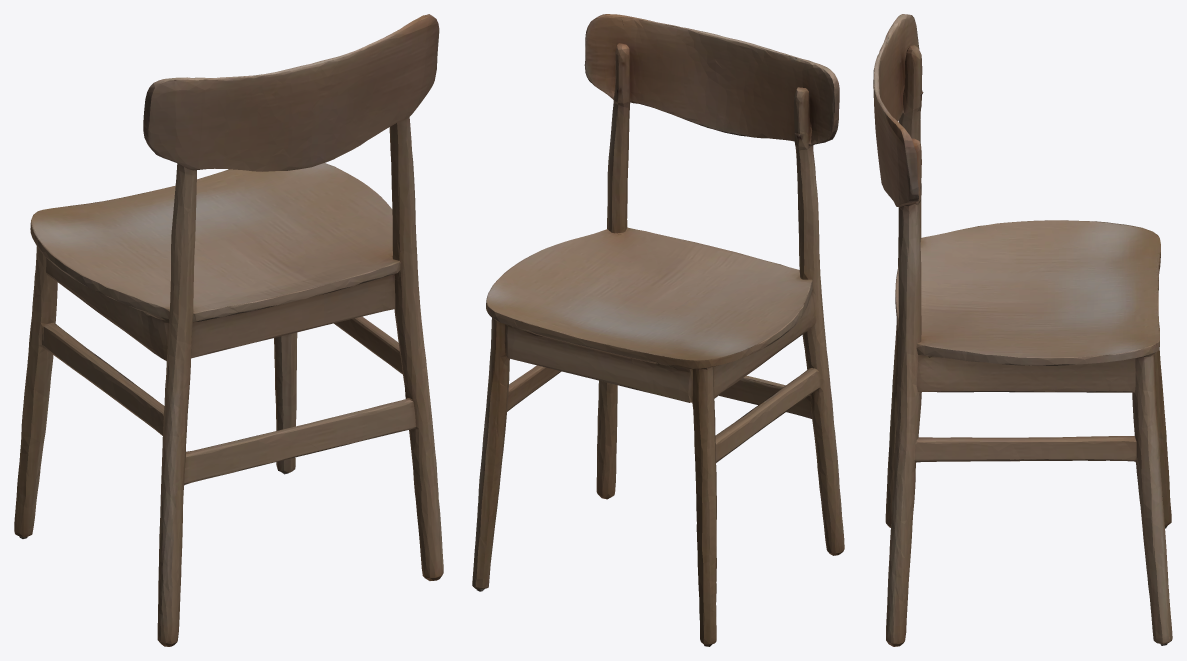
3 renders of one model, left to right at view 1: azimuth 30°, elevation 25°; view 2: azimuth 150°, elevation 25°; view 3: azimuth 270°, elevation 25°, orthographic. The views are drawn at different scales.
Parts seen in each view (by area): view 1: geometry_0; view 2: geometry_0; view 3: geometry_0.
Boxes of the visible parts, x1=… form: geometry_0: x1=14, y1=14, x2=443, y2=646; geometry_0: x1=472, y1=14, x2=844, y2=646; geometry_0: x1=873, y1=14, x2=1172, y2=646.
Size of the model in its own units: 0.5713 by 0.9943 by 0.5227.
Materials: 1 (1 with a texture image).
